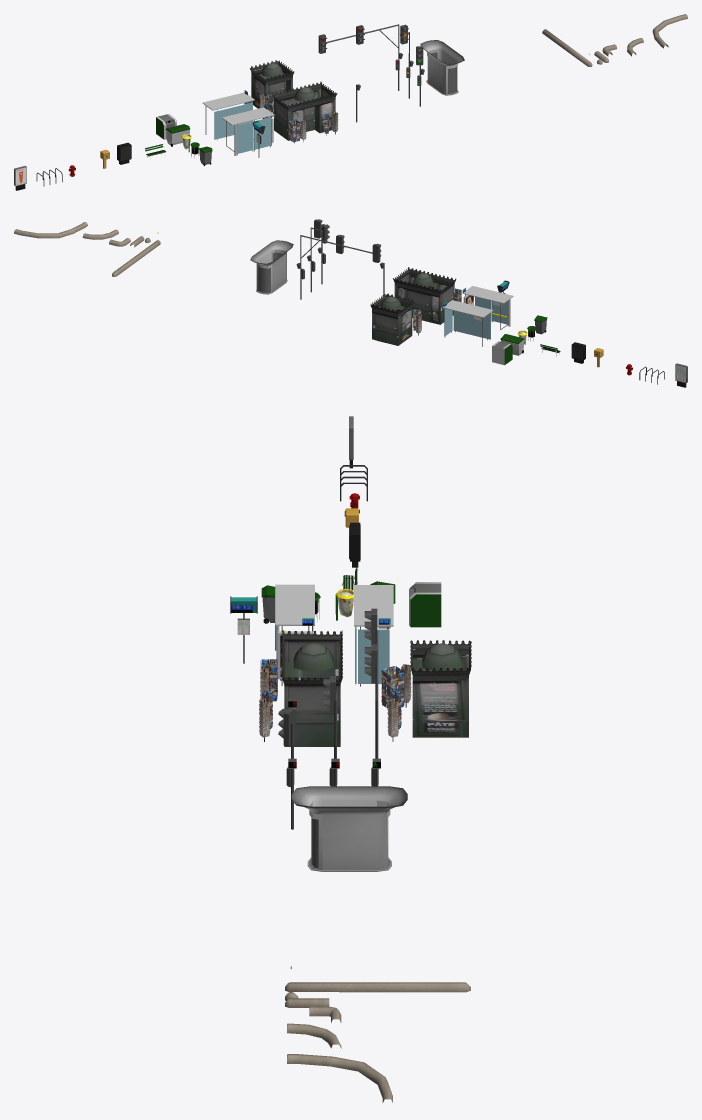
The model's file is props.FBX.
3 renders of one model, top to bottom at view 1: azimuth 30°, elevation 25°; view 2: azimuth 150°, elevation 25°; view 3: azimuth 270°, elevation 25°, orthographic. The views are drawn at different scales.
Visible parts, largest first — view 1: props_kiosque01, props_arret_bus03 (×2), props_toilettes_publiques, props_kiosque02, props_feux_double, props_poubelle_publique03, props_ligne_route_droite001, props_poubelle_verre, props_ligne_tournant_large, props_feux_haut, props_affiche_sucette, props_compteur electrique (+1 smaller); view 2: props_arret_bus03 (×2), props_kiosque01, props_kiosque02, props_toilettes_publiques, props_feux_double, props_ligne_tournant_large, props_poubelle_verre, props_ligne_route_droite001, props_feux_haut, props_poubelle_publique03, props_affiche_sucette, props_compteur electrique (+1 smaller); view 3: props_toilettes_publiques, props_kiosque02, props_kiosque01, props_arret_bus03 (×2), props_ligne_route_droite001, props_poubelle_verre, props_feux_double, props_ligne_tournant_large.
Part boxes in pixels (left/top/right/bottom): props_kiosque01: left=272, top=81, right=338, bottom=143; props_arret_bus03 (×2): left=202, top=90, right=274, bottom=155; props_toilettes_publiques: left=420, top=40, right=464, bottom=95; props_kiosque02: left=249, top=60, right=295, bottom=116; props_feux_double: left=318, top=24, right=402, bottom=90; props_poubelle_publique03: left=165, top=124, right=190, bottom=146; props_ligne_route_droite001: left=542, top=29, right=592, bottom=66; props_poubelle_verre: left=156, top=114, right=176, bottom=139; props_ligne_tournant_large: left=652, top=14, right=687, bottom=48; props_feux_haut: left=400, top=24, right=413, bottom=98; props_affiche_sucette: left=14, top=165, right=26, bottom=190; props_compteur electrique: left=117, top=142, right=131, bottom=164; props_arret_bus03 (×2): left=442, top=286, right=513, bottom=346; props_kiosque01: left=393, top=267, right=461, bottom=324; props_kiosque02: left=370, top=293, right=421, bottom=345; props_toilettes_publiques: left=250, top=240, right=293, bottom=294; props_feux_double: left=296, top=234, right=381, bottom=299; props_ligne_tournant_large: left=14, top=222, right=87, bottom=238; props_poubelle_verre: left=492, top=341, right=512, bottom=365; props_ligne_route_droite001: left=112, top=232, right=160, bottom=276; props_feux_haut: left=307, top=219, right=322, bottom=292; props_poubelle_publique03: left=500, top=334, right=524, bottom=355; props_affiche_sucette: left=675, top=363, right=687, bottom=387; props_compteur electrique: left=571, top=342, right=585, bottom=363; props_toilettes_publiques: left=291, top=786, right=407, bottom=871; props_kiosque02: left=381, top=640, right=471, bottom=741; props_kiosque01: left=259, top=630, right=342, bottom=746; props_arret_bus03 (×2): left=275, top=584, right=393, bottom=686; props_ligne_route_droite001: left=285, top=966, right=470, bottom=992; props_poubelle_verre: left=409, top=582, right=441, bottom=627; props_feux_double: left=364, top=608, right=380, bottom=786; props_ligne_tournant_large: left=287, top=1054, right=392, bottom=1102.
Size of the model in its own units: 50.19 by 5.27 by 7.91.
Materials: 3 (2 with a texture image).
